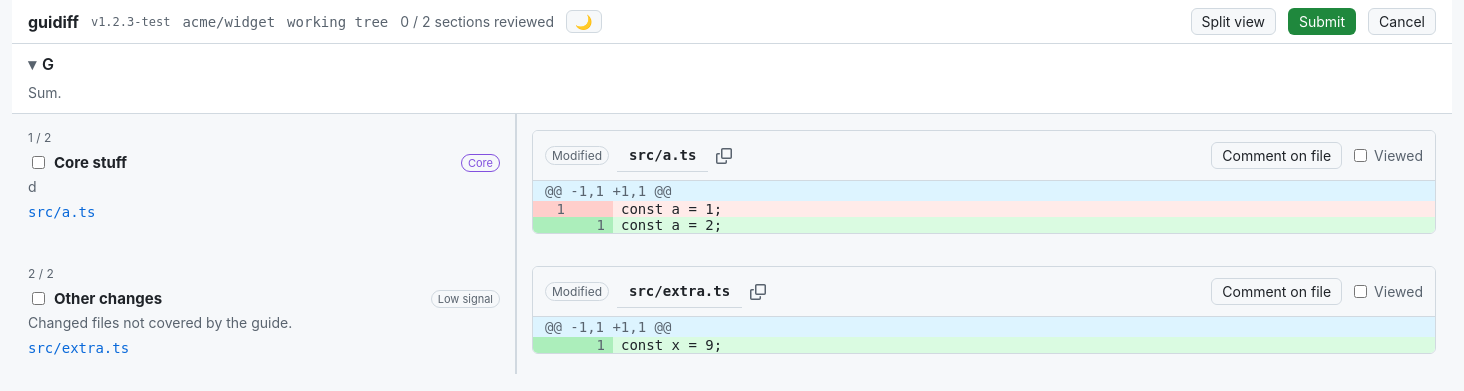
App › overview panel starts open and clicking its title row toggles it
The image size is (1464, 391).
Expected: the element with class "overview-panel" is shown, [12,44,1452,114]
Expected: the text "Sum." is shown, [28,84,62,101]
Step 1. Click the button "▾ G" → (32, 64), box [12,44,1452,84]
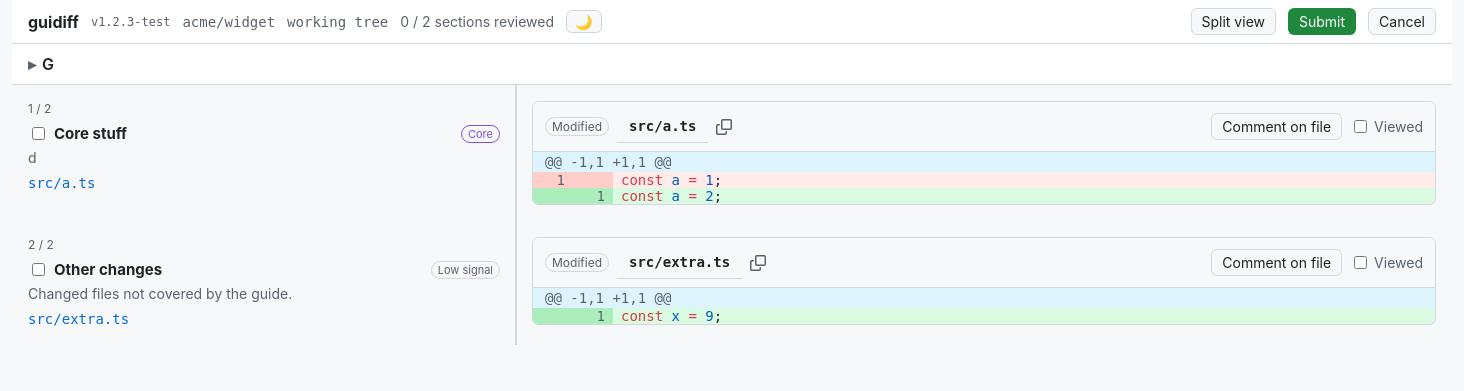
Expected: the text "Sum." is gone
Expected: the button "▸ G" is collapsed
Step 2. Click the button "▸ G" → (32, 64), box [12,44,1452,84]
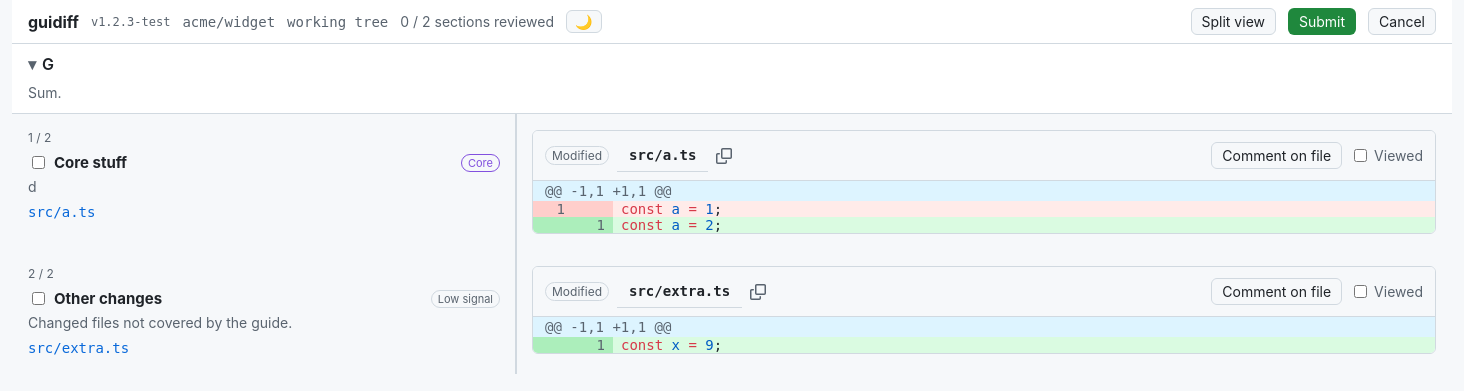
Expected: the text "Sum." is shown, [28,84,62,101]
